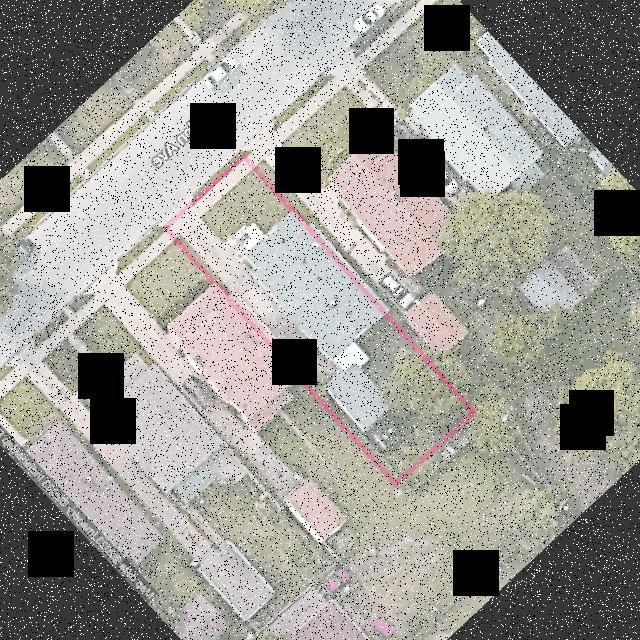Driveway: (168, 161, 337, 386)
Extra Driveway: (158, 195, 192, 227)
Extra Lawn: (192, 151, 245, 200)
House: (245, 214, 381, 360)
Other: (325, 364, 388, 433), (224, 223, 264, 260), (332, 342, 370, 372), (373, 424, 399, 449)
